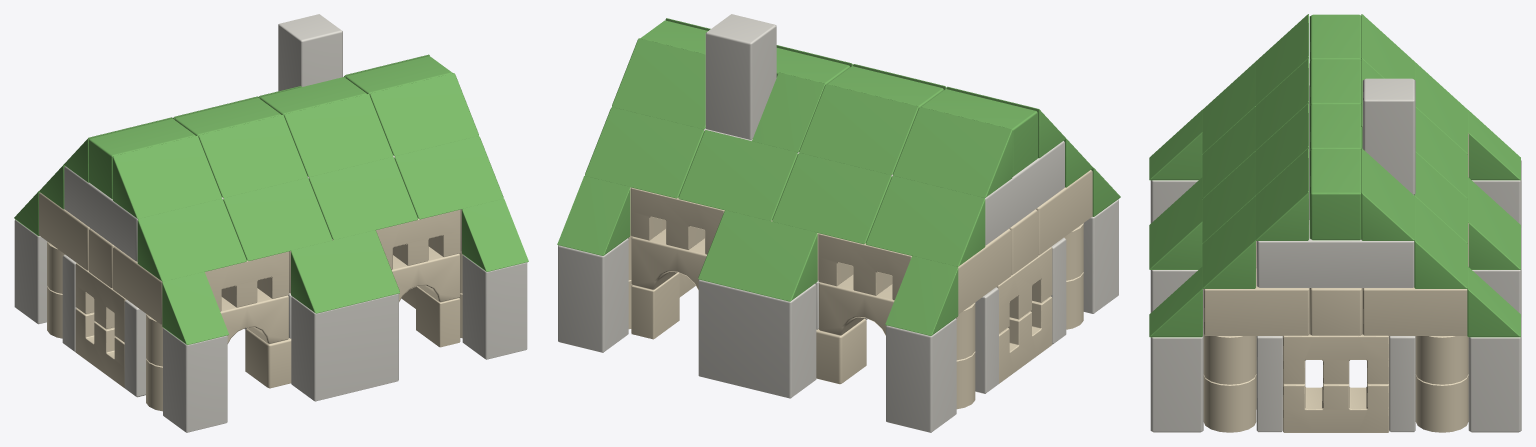
The model's file is house under.fbx.
3 views of the same model, side by side, from view 1: azimuth 30°, elevation 25°; view 2: azimuth 150°, elevation 25°; view 3: azimuth 270°, elevation 25° (orthographic). The views are drawn at different scales.
Parts seen in each view (by area): view 1: pCube627, pCube565, pCube559, pCube613, pCube564, pCube567, pCube566, pCube615, pCube614, pCube616, pCube572, pCube571 (+29 smaller); view 2: pCube563, pCube582, pCube586, pCube620, pCube626, pCube584, pCube585, pCube583, pCube619, pCube589, pCube590, pCube617 (+29 smaller); view 3: pCube607, pCube572, pCube590, pCube599, pCube626, pCube602, pCube603, pCube621, pCube601, pCube617, pCube559, pCube616 (+31 smaller).
Part boxes in pixels (x1=…): pCube627: x1=291, y1=293, x2=398, y2=401; pCube565: x1=137, y1=198, x2=246, y2=281; pCube559: x1=291, y1=230, x2=399, y2=313; pCube613: x1=113, y1=135, x2=221, y2=218; pCube564: x1=223, y1=177, x2=332, y2=261; pCube567: x1=394, y1=136, x2=503, y2=219; pCube566: x1=309, y1=157, x2=417, y2=239; pCube615: x1=284, y1=94, x2=393, y2=177; pCube614: x1=198, y1=115, x2=307, y2=197; pCube616: x1=370, y1=73, x2=478, y2=156; pCube572: x1=462, y1=255, x2=527, y2=359; pCube571: x1=163, y1=328, x2=227, y2=432; pCube563: x1=698, y1=279, x2=816, y2=398; pCube582: x1=698, y1=210, x2=817, y2=301; pCube586: x1=866, y1=175, x2=985, y2=266; pCube620: x1=893, y1=107, x2=1012, y2=197; pCube626: x1=705, y1=14, x2=776, y2=139; pCube584: x1=678, y1=130, x2=797, y2=221; pCube585: x1=772, y1=153, x2=891, y2=244; pCube583: x1=585, y1=107, x2=704, y2=198; pCube619: x1=799, y1=84, x2=918, y2=175; pCube589: x1=886, y1=318, x2=956, y2=432; pCube590: x1=558, y1=238, x2=628, y2=352; pCube617: x1=612, y1=38, x2=705, y2=129; pCube607: x1=1256, y1=220, x2=1414, y2=287; pCube572: x1=1150, y1=317, x2=1203, y2=432; pCube590: x1=1468, y1=317, x2=1521, y2=432; pCube599: x1=1283, y1=383, x2=1389, y2=432; pCube626: x1=1362, y1=78, x2=1415, y2=194; pCube602: x1=1203, y1=268, x2=1309, y2=335; pCube603: x1=1362, y1=287, x2=1467, y2=335; pCube621: x1=1309, y1=149, x2=1361, y2=240; pCube601: x1=1283, y1=334, x2=1389, y2=383; pCube617: x1=1361, y1=148, x2=1414, y2=240; pCube559: x1=1149, y1=177, x2=1202, y2=269; pCube616: x1=1255, y1=148, x2=1308, y2=240.
Size of the model in its own units: 84.18 by 63 by 73.76.
